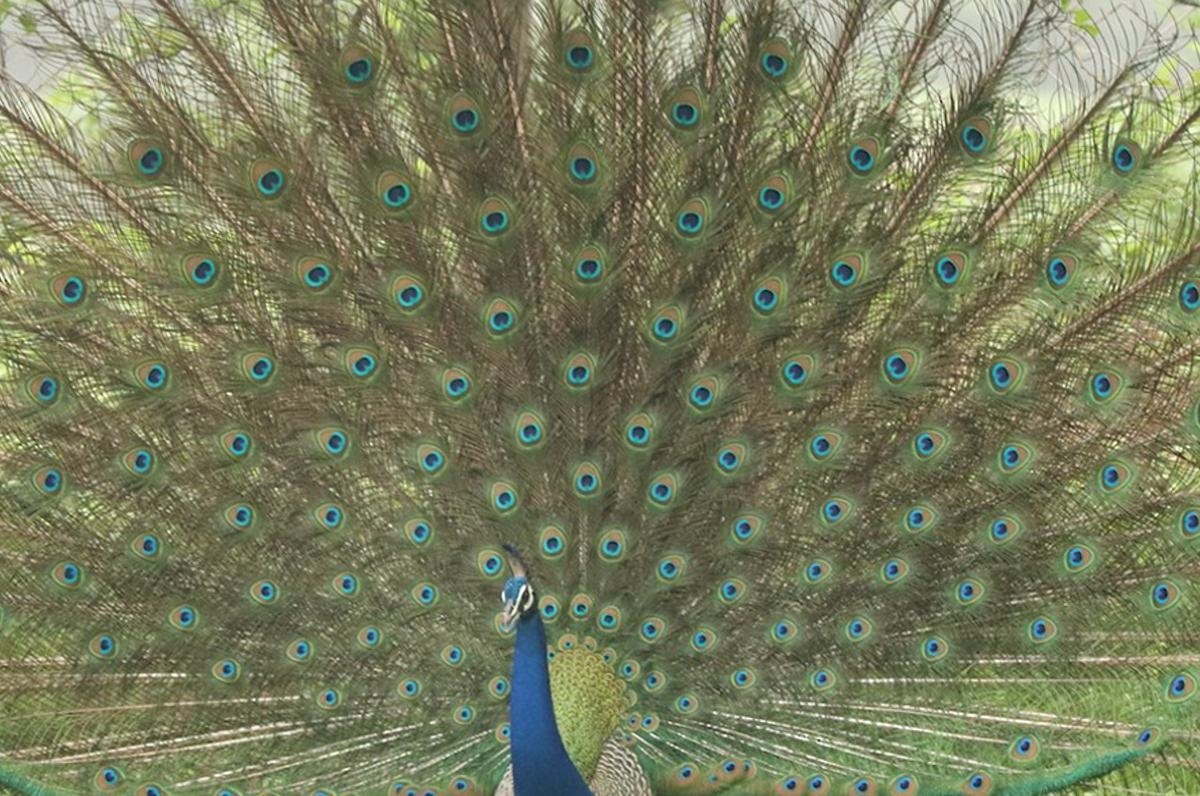peacock: (177, 270, 1009, 796)
